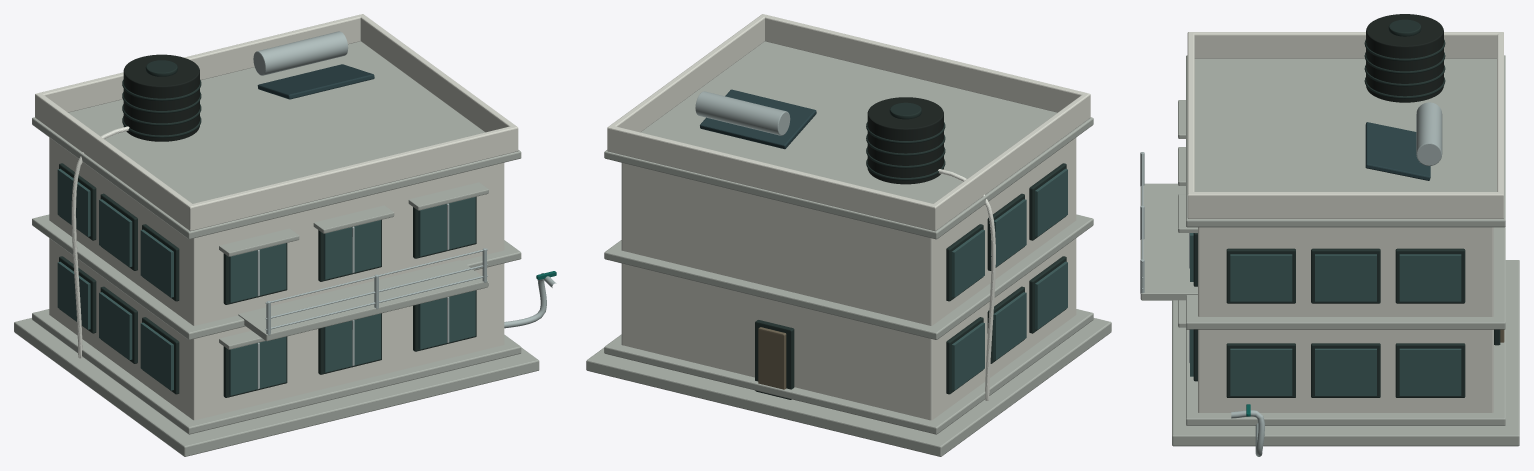
Rendered from house.glb.
3 views of the same model, side by side, from view 1: azimuth 30°, elevation 25°; view 2: azimuth 150°, elevation 25°; view 3: azimuth 270°, elevation 25° (orthographic).
Parts seen in each view (by area): view 1: Weathered concrete, Mineral plaster, Tinted glazing, Powder coated charcoal, Brushed stainless steel, Rubber, Solar collector, Truck enamel; view 2: Mineral plaster, Weathered concrete, Tinted glazing, Powder coated charcoal, Rubber, Brushed stainless steel, Solar collector, Timber door, Truck enamel; view 3: Weathered concrete, Mineral plaster, Tinted glazing, Powder coated charcoal, Rubber, Brushed stainless steel, Solar collector.
Boxes of the visible parts, x1,y1,x2,y2 form: Weathered concrete: (14,41,539,456); Mineral plaster: (35,14,518,420); Tinted glazing: (57,168,475,395); Powder coated charcoal: (59,60,476,397); Brushed stainless steel: (253,31,556,389); Rubber: (123,54,199,141); Solar collector: (257,64,374,99); Truck enamel: (71,126,129,358); Mineral plaster: (607,14,1090,420); Weathered concrete: (586,41,1111,456); Tinted glazing: (951,168,1067,390); Powder coated charcoal: (755,102,1066,399); Rubber: (867,97,943,184); Brushed stainless steel: (695,91,790,135); Solar collector: (700,89,816,149); Timber door: (758,327,786,389); Truck enamel: (938,169,995,400); Weathered concrete: (1140,55,1519,446); Mineral plaster: (1187,32,1503,412); Tinted glazing: (1190,233,1461,395); Powder coated charcoal: (1193,19,1500,397); Rubber: (1366,14,1443,102); Brushed stainless steel: (1140,102,1442,456); Solar collector: (1365,122,1430,180).
Size of the model in its own units: 13.82 by 9.2 by 10.91.
